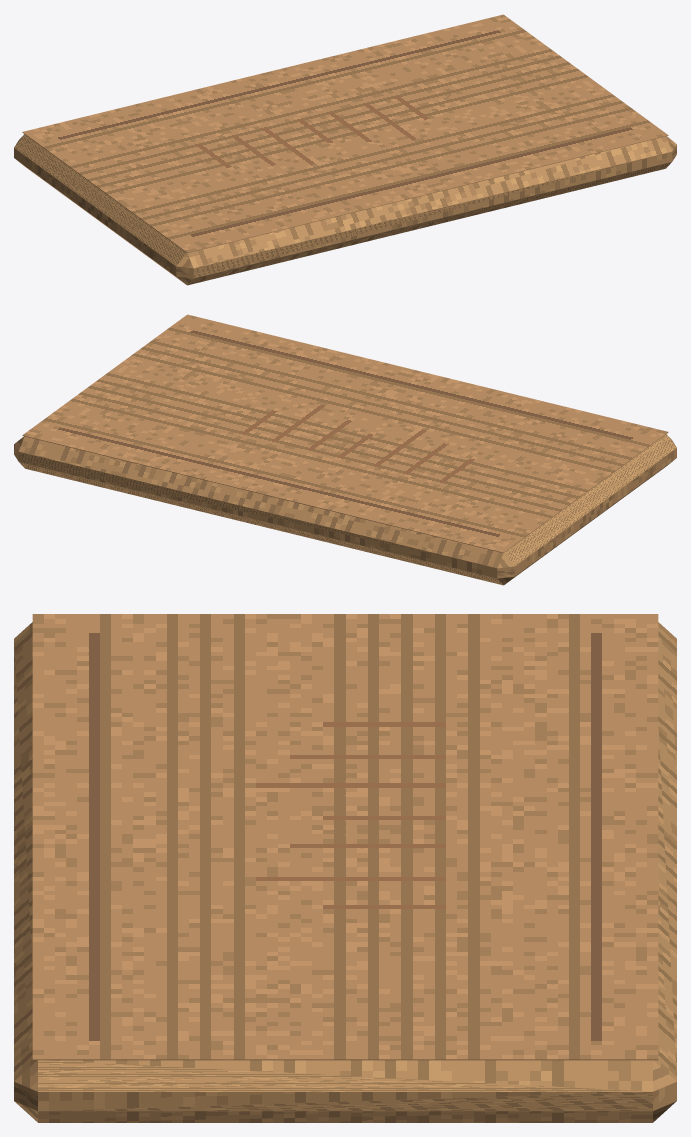
Rendered from cutting_board.glb.
The picture shows the model from 3 angles, top to bottom: view 1: azimuth 30°, elevation 25°; view 2: azimuth 150°, elevation 25°; view 3: azimuth 270°, elevation 25°; orthographic projection. The views are drawn at different scales.
Visible parts, largest first — view 1: block_cutting face, block_maple board; view 2: block_cutting face, block_maple board; view 3: block_cutting face, block_maple board.
Boxes of the visible parts, x1=… form: block_cutting face: x1=22, y1=14, x2=668, y2=252; block_maple board: x1=14, y1=134, x2=676, y2=285; block_cutting face: x1=22, y1=314, x2=668, y2=552; block_maple board: x1=14, y1=434, x2=676, y2=585; block_cutting face: x1=32, y1=614, x2=658, y2=1060; block_maple board: x1=14, y1=622, x2=676, y2=1122.
Size of the model in its own units: 0.41 by 0.0267 by 0.248.
1 material, 1 textured.
